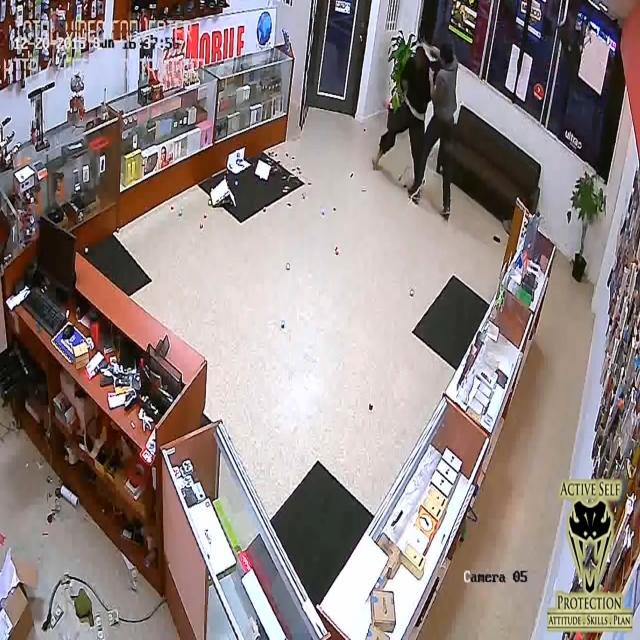fight: (375, 34, 454, 228)
